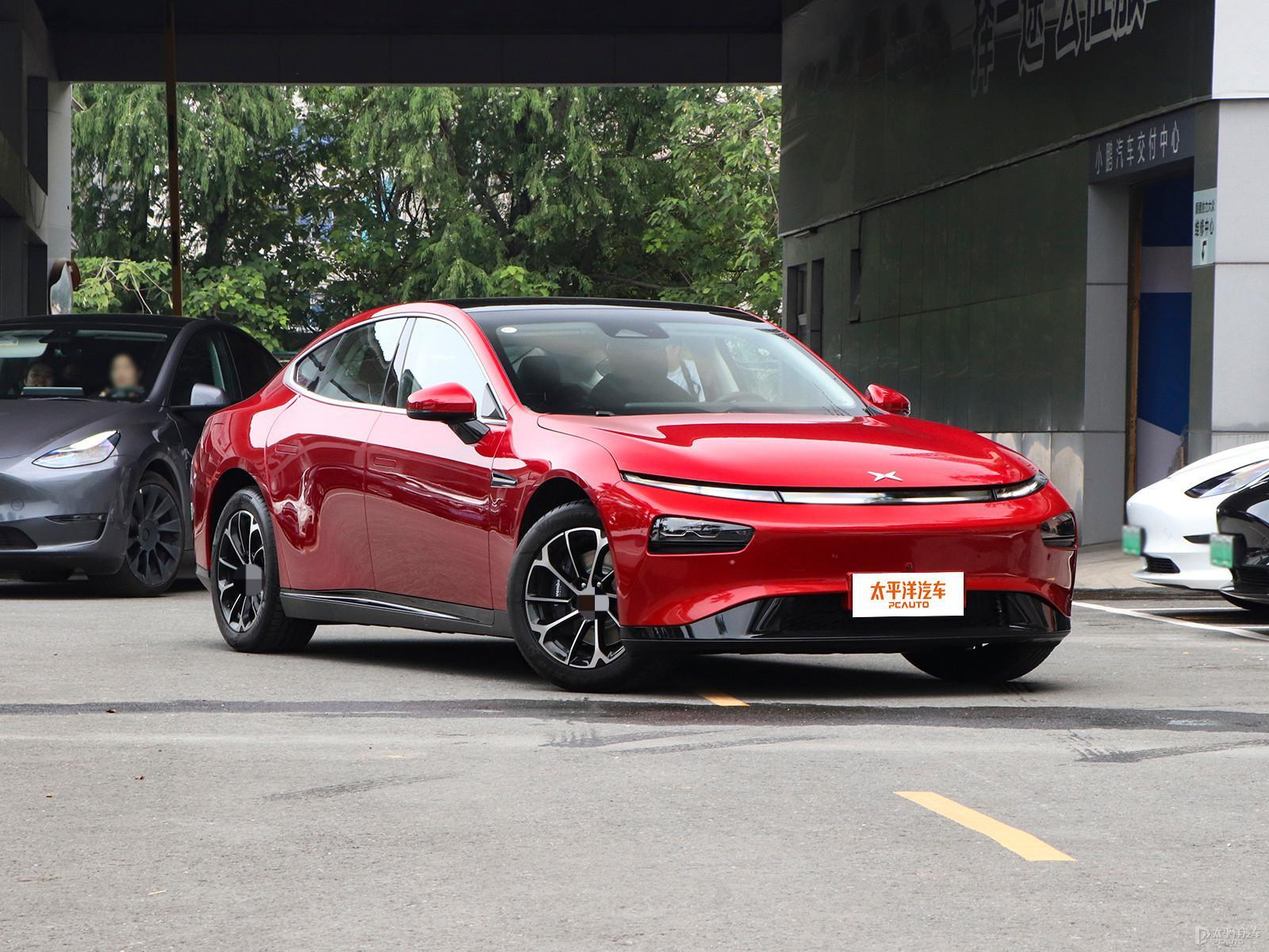XPeng Motors: (867, 470, 903, 482)
